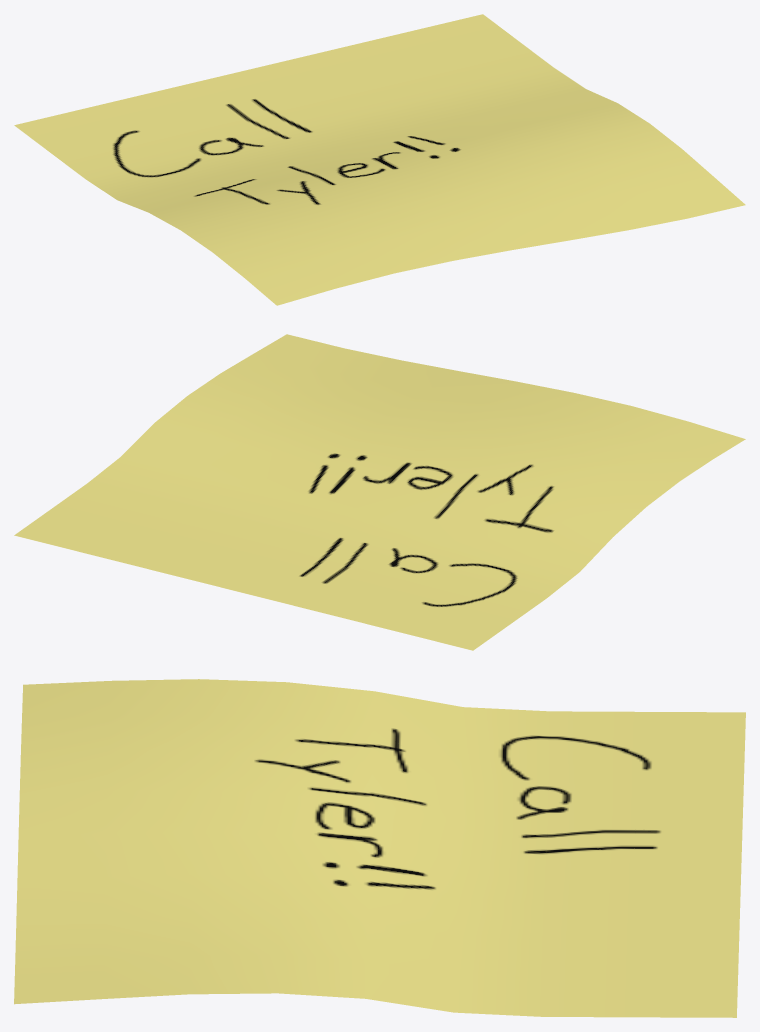
The model's file is postit_1.glb.
3 renders of one model, top to bottom at view 1: azimuth 30°, elevation 25°; view 2: azimuth 150°, elevation 25°; view 3: azimuth 270°, elevation 25°, orthographic. The views are drawn at different scales.
Visible parts, largest first — view 1: StickyNote.012; view 2: StickyNote.012; view 3: StickyNote.012.
Boxes of the visible parts, x1,y1,x2,y2 form: StickyNote.012: [14, 14, 745, 305]; StickyNote.012: [14, 334, 745, 650]; StickyNote.012: [14, 679, 745, 1017].
Size of the model in its own units: 0.0772 by 0.00406 by 0.0772.
Materials: 1 (1 with a texture image).
